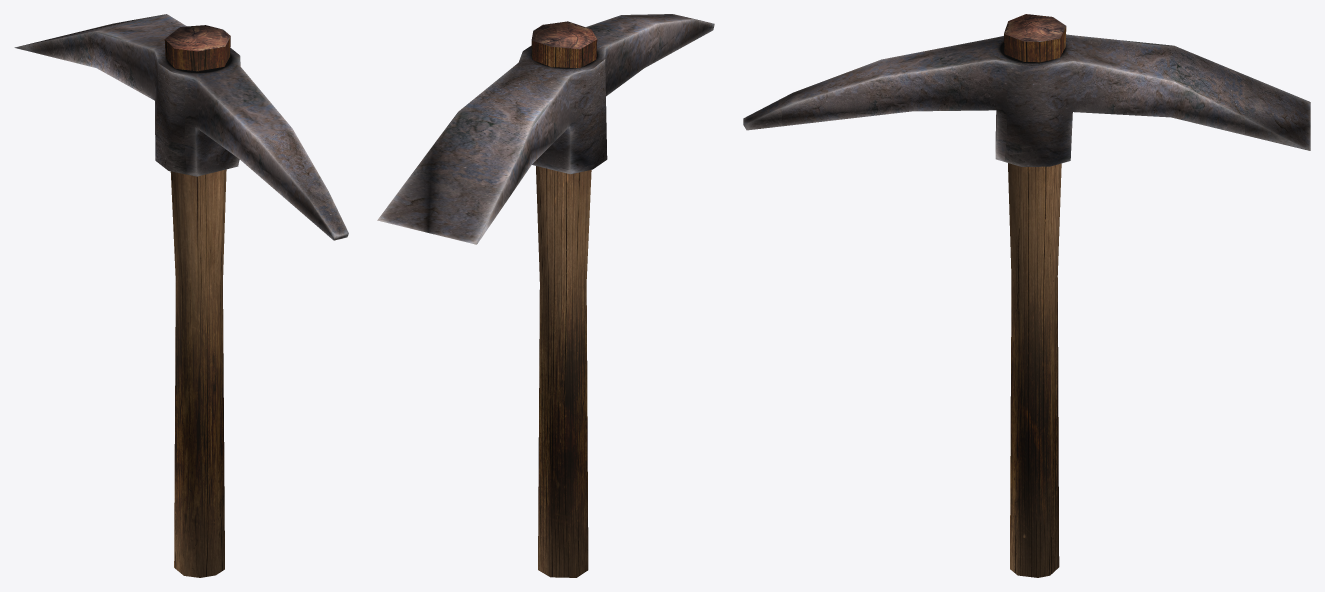
The model's file is pickaxe-g.glb.
3 views of the same model, side by side, from view 1: azimuth 30°, elevation 25°; view 2: azimuth 150°, elevation 25°; view 3: azimuth 270°, elevation 25° (orthographic).
Visible parts, largest first — view 1: Pick_Axe_0; view 2: Pick_Axe_0; view 3: Pick_Axe_0.
Part boxes in pixels (x1=…): Pick_Axe_0: x1=14, y1=14, x2=348, y2=577; Pick_Axe_0: x1=377, y1=14, x2=714, y2=577; Pick_Axe_0: x1=743, y1=14, x2=1310, y2=577.
Size of the model in its own units: 0.2973 by 1.52 by 1.45.
Materials: 1 (1 with a texture image).
